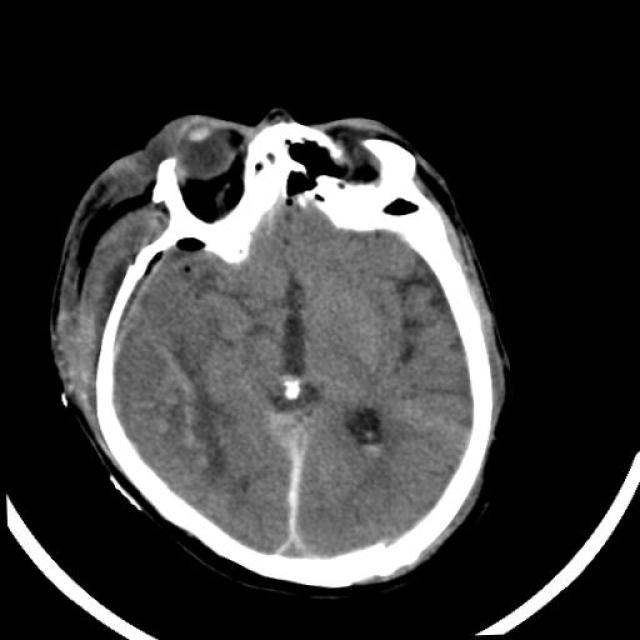Intraventricular: (352, 431, 392, 469)
Subdural: (266, 444, 324, 564)
